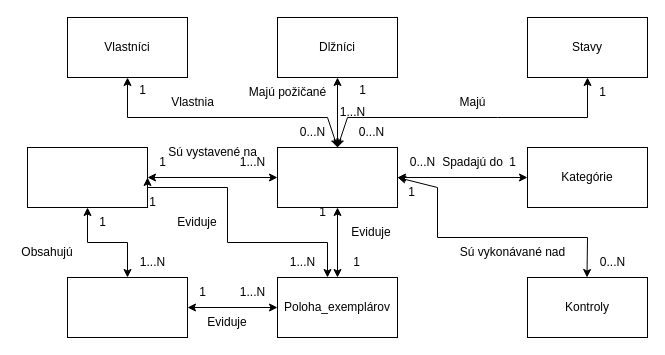
The diagram is 665 pixels wide and 355 high, and some of its shapes have lost their labels. The box of each missing label's shape, as (x1, y1, x2, y2) in pixels:
Exempláre: (276, 146, 398, 208)
Expozície: (26, 146, 148, 208)
Zóny: (66, 276, 188, 338)
